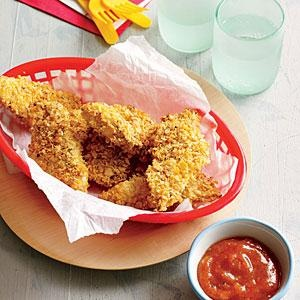background: (41, 30, 132, 140), (0, 35, 105, 99), (60, 0, 133, 44)
